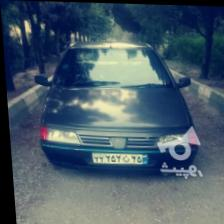plate: (89, 152, 147, 163)
